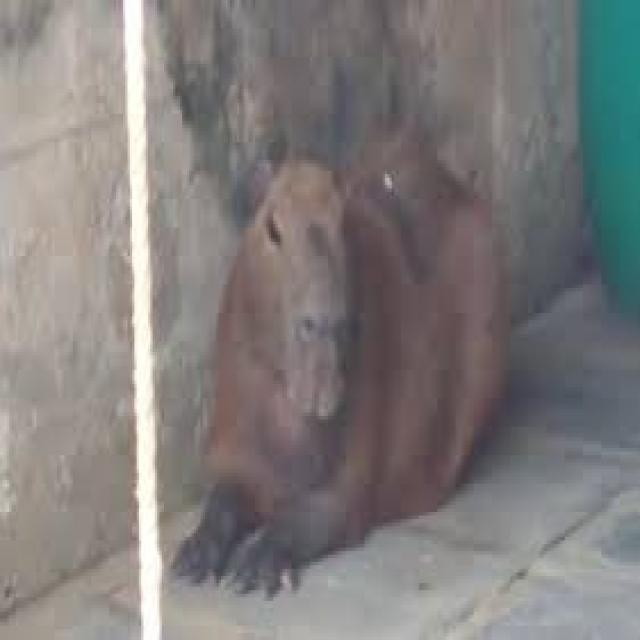capy: (169, 123, 508, 595)
